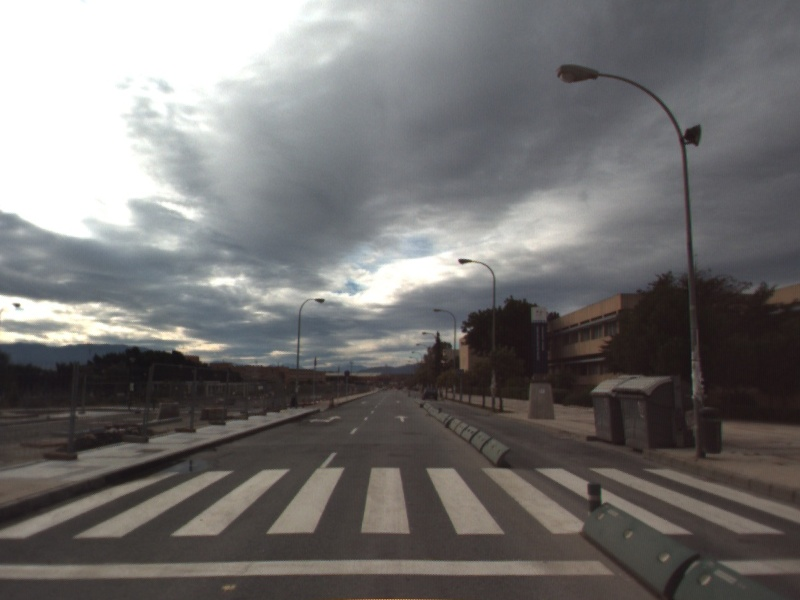STRAIGHT: (392, 412, 411, 424)
STRAIGHT_LEFT: (306, 413, 344, 425)
